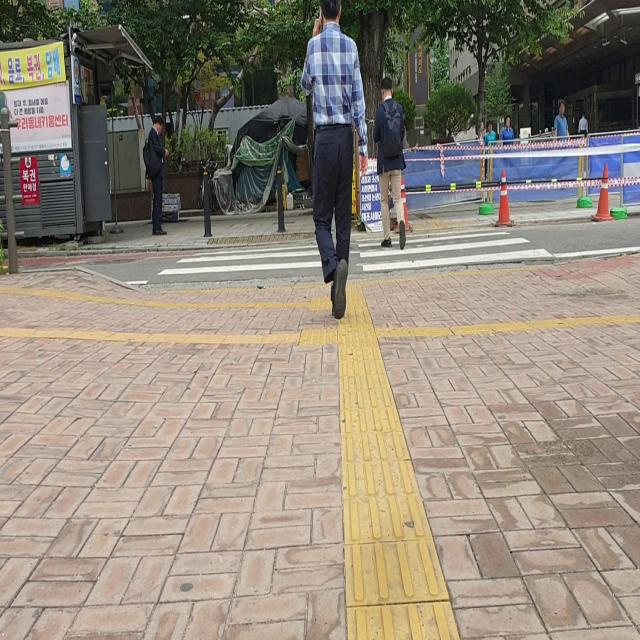횡단보도: (156, 228, 555, 272)
